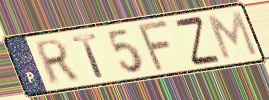5: (106, 26, 146, 76)
F: (137, 19, 174, 74)
M: (205, 10, 260, 62)
R: (33, 37, 81, 87)
T: (70, 32, 107, 80)
Z: (172, 14, 223, 68)
